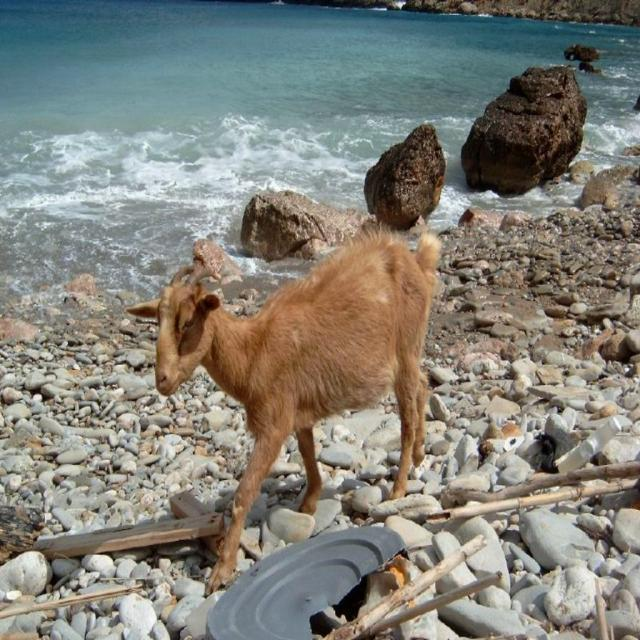Goat: (125, 220, 443, 596)
